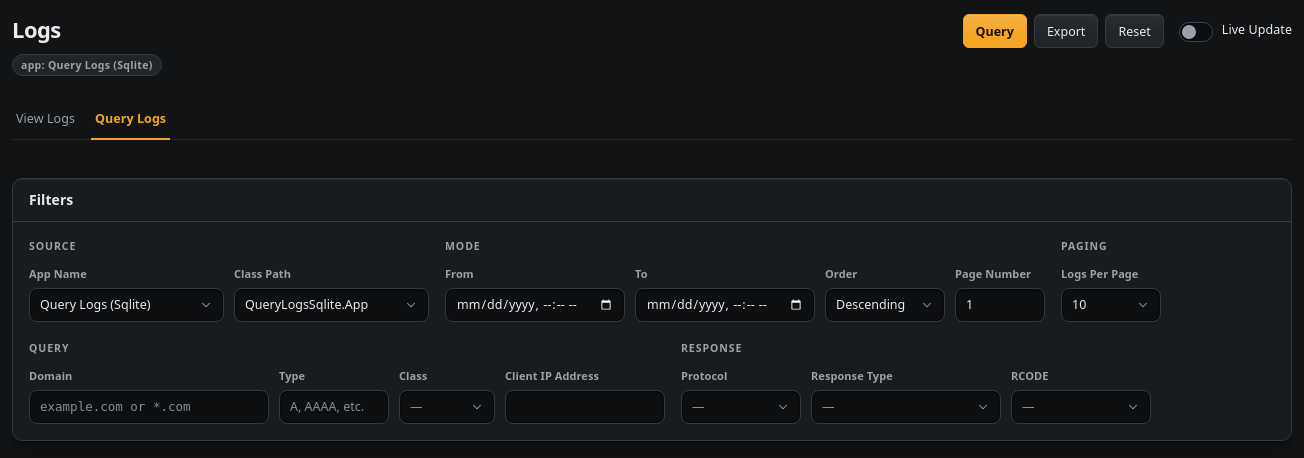
Scenario: Logs › Query Logs: the form › "Reset" returns the form to its default values
The width and height of the screenshot is (1304, 458).
Expected: the dropdown named "App Name" is shown, top-left (29, 288), bottom-right (224, 322)
Type "home.test" into the field labelled "Domain". click: x=149, y=407
box: top-left (29, 390), bottom-right (269, 424)
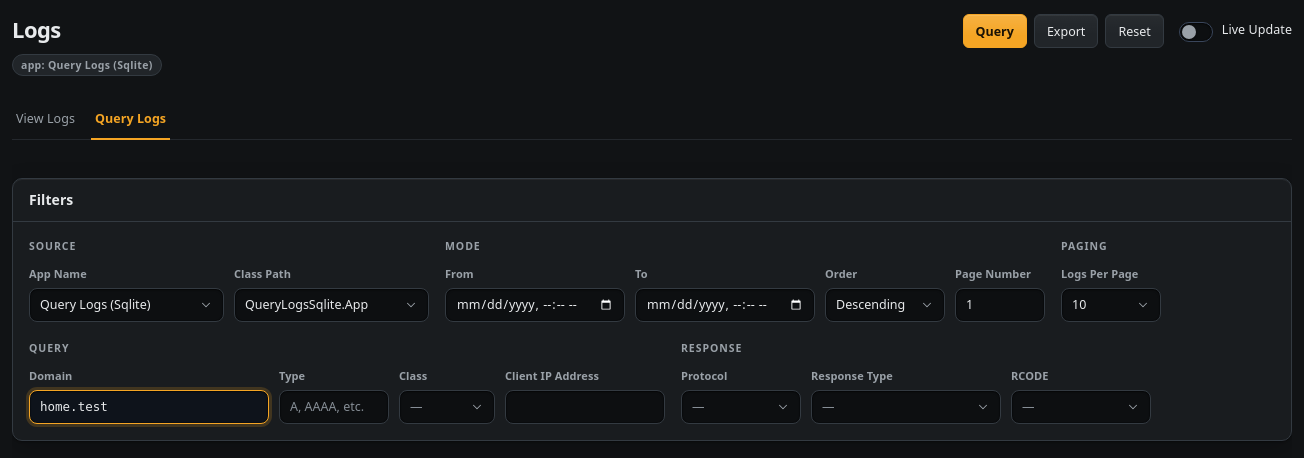
Click the dropdown named "Order". click: x=885, y=305
box: top-left (825, 288), bottom-right (945, 322)
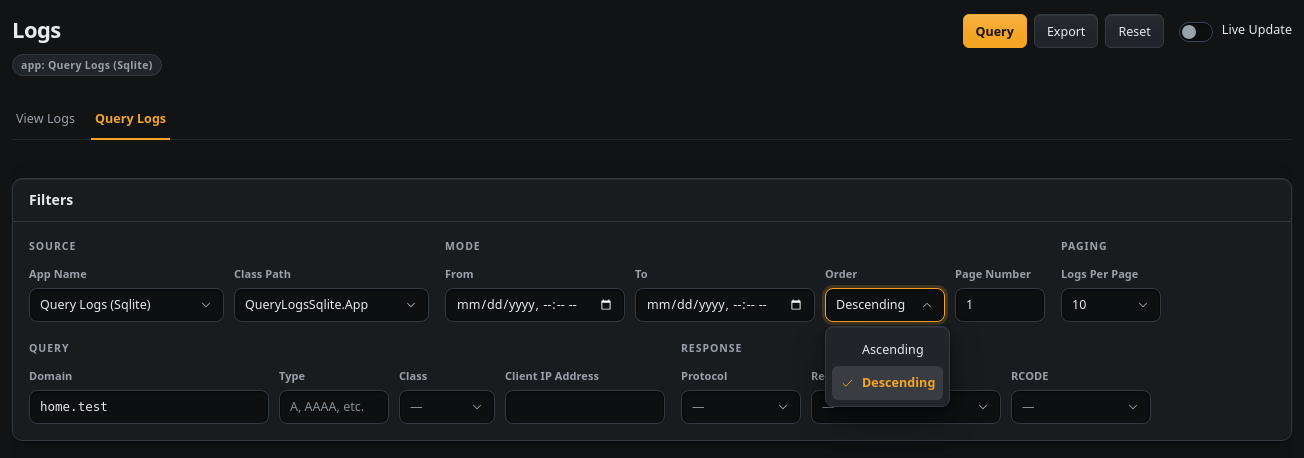
Click the option "Ascending". click: x=893, y=350
box: top-left (862, 341), bottom-right (924, 358)
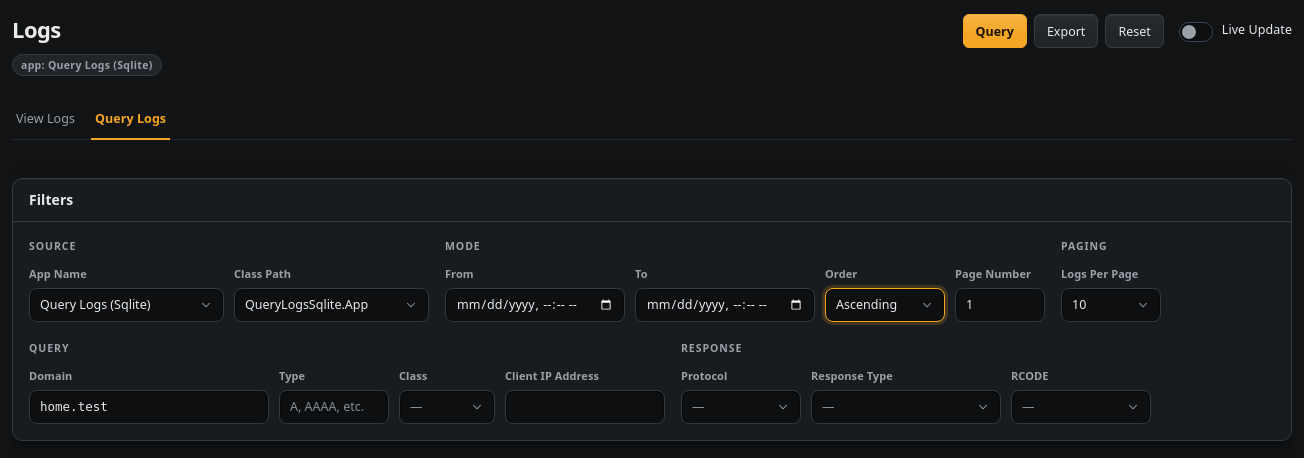
Click the button "Reset". click: x=1135, y=31
box: top-left (1105, 14), bottom-right (1164, 48)
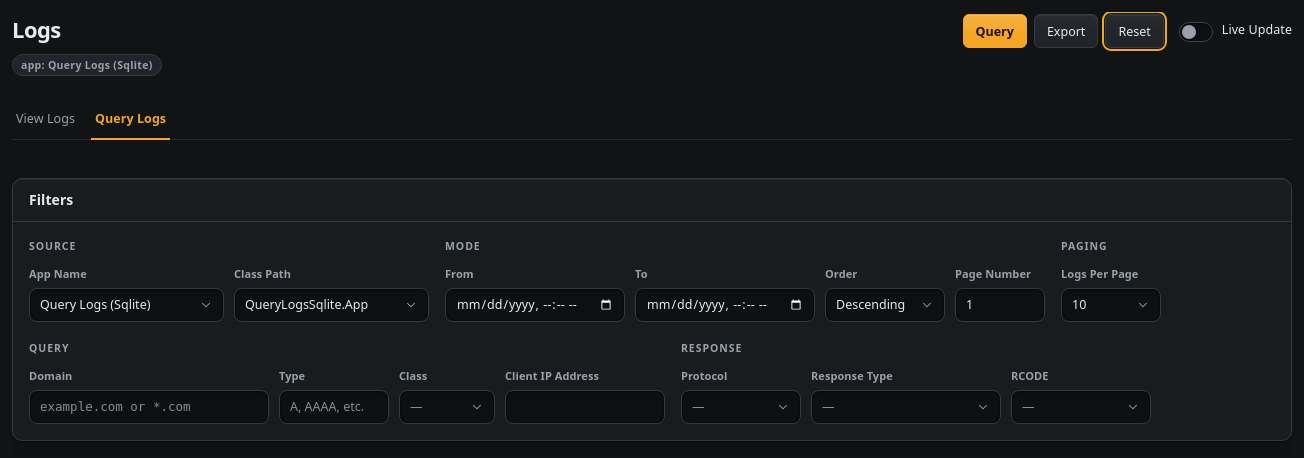
Expected: the field labelled "Domain" is empty, top-left (29, 390), bottom-right (269, 424)
Expected: the text "Descending" is shown, top-left (836, 297), bottom-right (905, 313)
